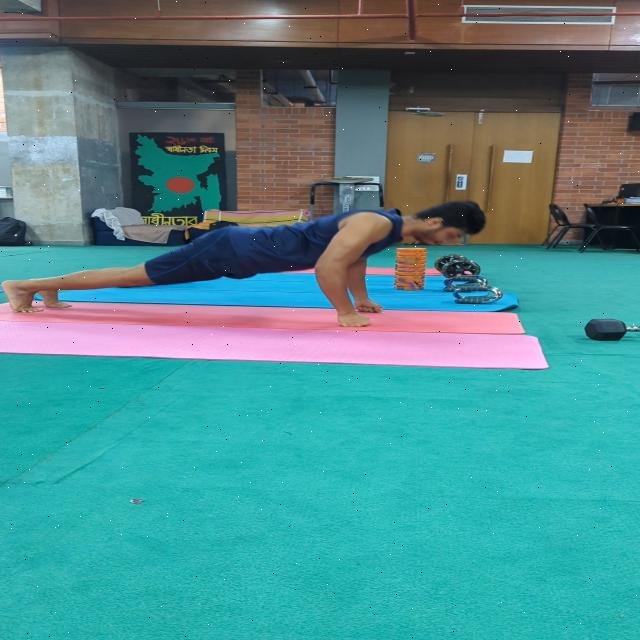Normal_PushUps: (9, 195, 498, 337)
